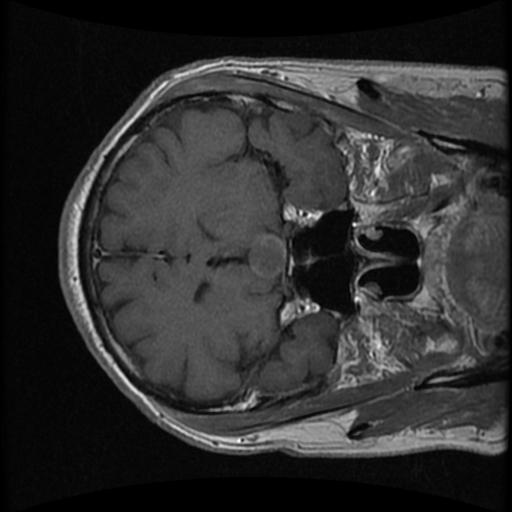pituitary tumour: (246, 234, 286, 280)
